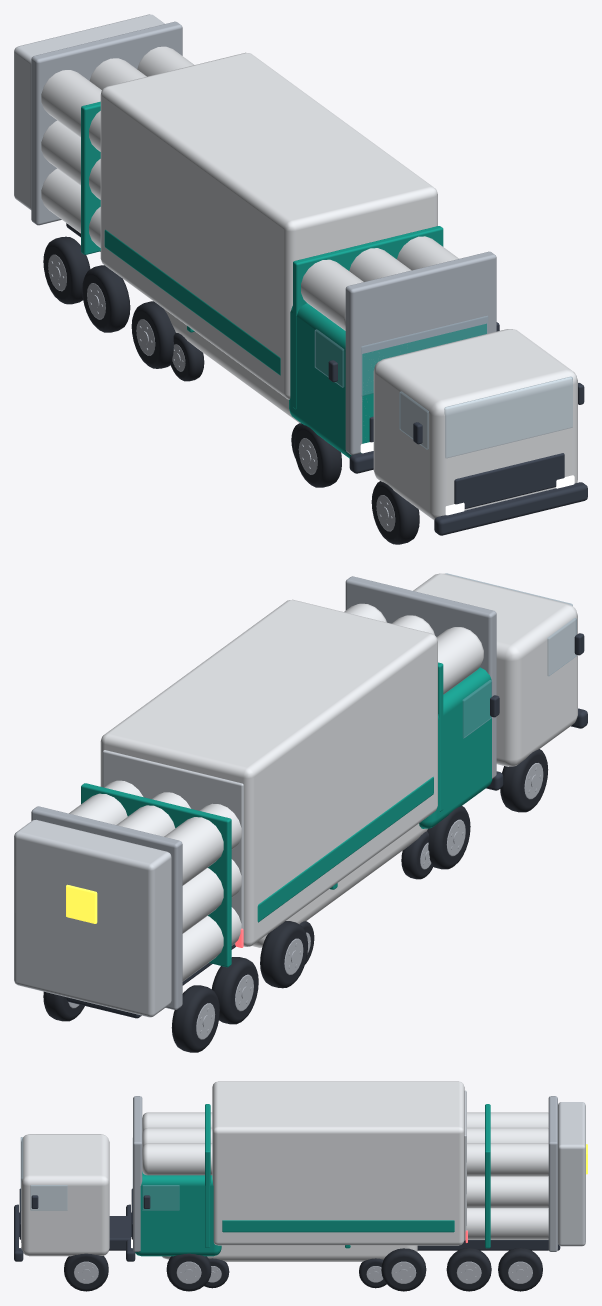
Rendered from trucks.glb.
The picture shows the model from 3 angles, top to bottom: view 1: azimuth 30°, elevation 25°; view 2: azimuth 150°, elevation 25°; view 3: azimuth 270°, elevation 25°; orthographic projection. The views are drawn at different scales.
Parts seen in each view (by area): view 1: truck_box_body, truck_tube_body, truck_tube_wheel2, truck_tube_wheel4, truck_box_wheel2, truck_tube_wheel0, truck_box_wheel0, van_service_mesh, van_service_wheel2; view 2: truck_box_body, truck_tube_body, truck_box_wheel2, truck_tube_wheel4, truck_tube_wheel2, truck_tube_wheel0, van_service_mesh, truck_box_wheel0, van_service_wheel0, truck_tube_wheel5; view 3: truck_box_body, truck_tube_body, van_service_mesh, truck_tube_wheel3, truck_tube_wheel5, truck_box_wheel3, truck_tube_wheel1, truck_box_wheel1, van_service_wheel3, van_service_wheel1.
Part boxes in pixels (left/top/right/bottom): truck_box_body: left=100, top=52, right=499, bottom=473; truck_tube_body: left=14, top=14, right=587, bottom=535; truck_tube_wheel2: left=82, top=265, right=130, bottom=332; truck_tube_wheel4: left=43, top=236, right=90, bottom=304; truck_box_wheel2: left=131, top=301, right=175, bottom=368; truck_tube_wheel0: left=371, top=481, right=419, bottom=544; truck_box_wheel0: left=294, top=424, right=341, bottom=487; van_service_mesh: left=164, top=309, right=300, bottom=423; van_service_wheel2: left=170, top=333, right=204, bottom=381; truck_box_body: left=100, top=599, right=503, bottom=949; truck_tube_body: left=14, top=573, right=587, bottom=1018; truck_box_wheel2: left=260, top=921, right=307, bottom=988; truck_tube_wheel4: left=171, top=985, right=219, bottom=1052; truck_tube_wheel2: left=211, top=957, right=258, bottom=1024; truck_tube_wheel0: left=500, top=749, right=548, bottom=812; van_service_mesh: left=252, top=823, right=427, bottom=947; truck_box_wheel0: left=427, top=806, right=470, bottom=869; van_service_wheel0: left=401, top=831, right=433, bottom=879; truck_tube_wheel5: left=43, top=991, right=84, bottom=1021; truck_box_body: left=126, top=1081, right=467, bottom=1261; truck_tube_body: left=14, top=1096, right=587, bottom=1261; van_service_mesh: left=162, top=1245, right=417, bottom=1261; truck_tube_wheel3: left=446, top=1248, right=491, bottom=1291; truck_tube_wheel5: left=498, top=1248, right=542, bottom=1291; truck_box_wheel3: left=381, top=1248, right=426, bottom=1291; truck_tube_wheel1: left=64, top=1253, right=108, bottom=1291; truck_box_wheel1: left=166, top=1253, right=211, bottom=1291; van_service_wheel3: left=359, top=1258, right=386, bottom=1288; van_service_wheel1: left=204, top=1258, right=229, bottom=1288.
Bounding box in the file's own units: 2.74 × 3.9 × 12.3.
